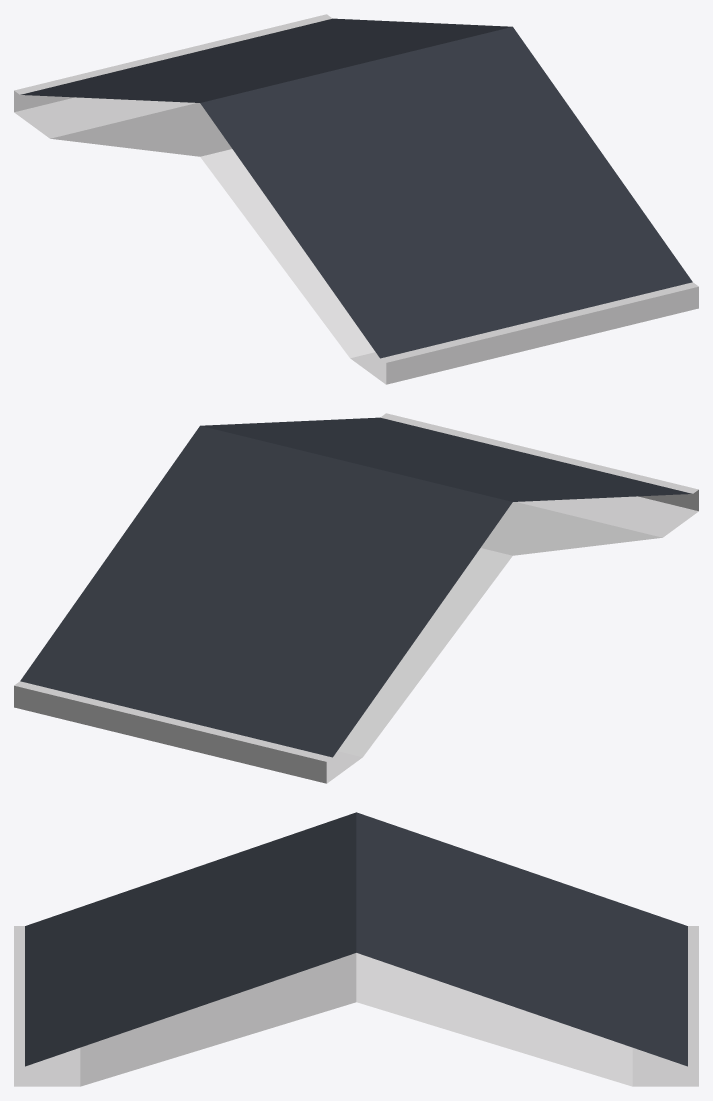
The model's file is SM_veranda02_roofExtra.glb.
3 renders of one model, top to bottom at view 1: azimuth 30°, elevation 25°; view 2: azimuth 150°, elevation 25°; view 3: azimuth 270°, elevation 25°, orthographic. The views are drawn at different scales.
Visible parts, largest first — view 1: SM_veranda02_roofExtra; view 2: SM_veranda02_roofExtra; view 3: SM_veranda02_roofExtra.
Boxes of the visible parts, x1,y1,x2,y2 form: SM_veranda02_roofExtra: (14, 14, 698, 384); SM_veranda02_roofExtra: (14, 413, 698, 783); SM_veranda02_roofExtra: (14, 812, 698, 1086).
Bounding box in the file's own units: 3 × 1.33 × 6.18.
1 material, 1 textured.
